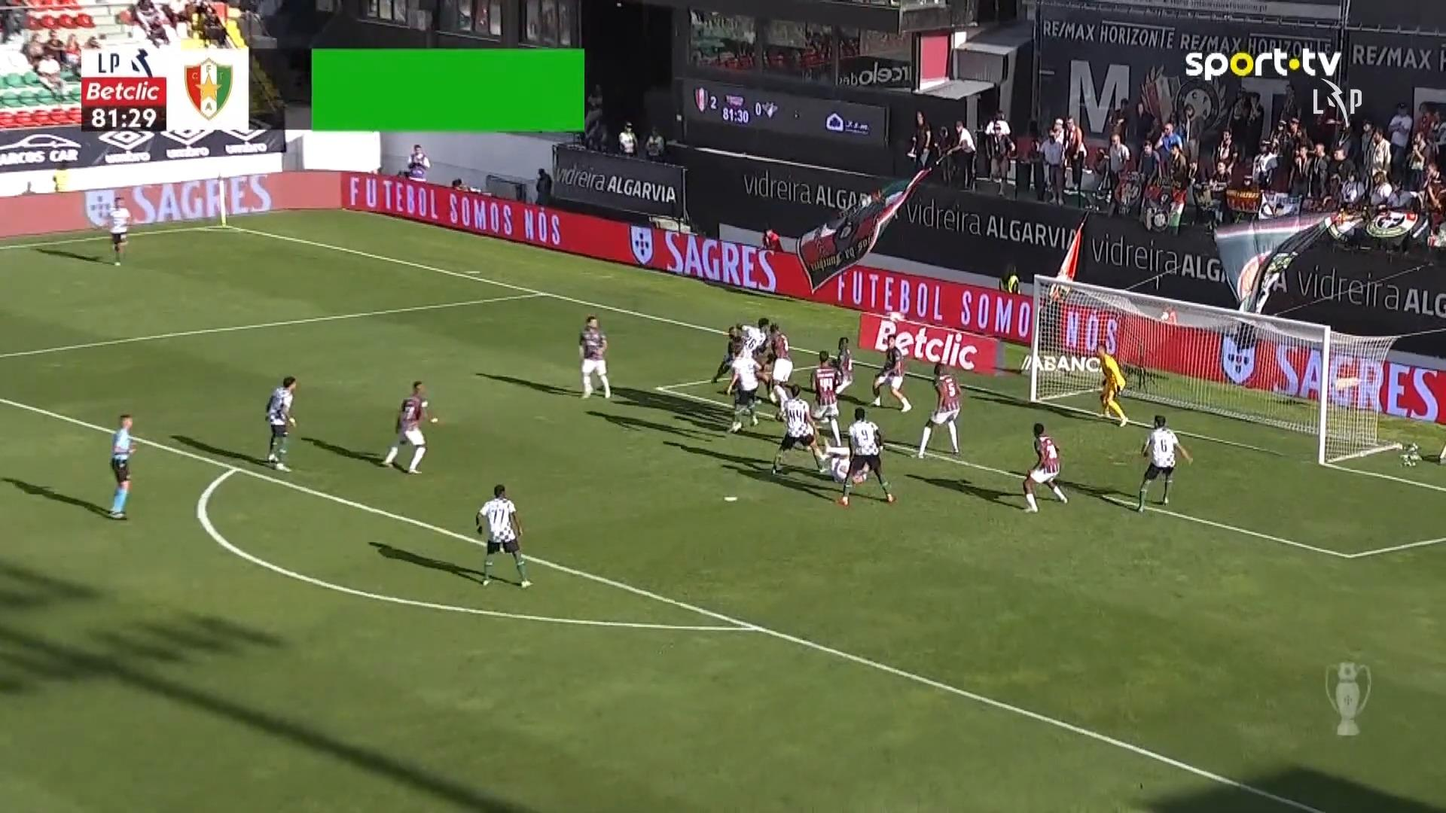goalkeeper: (1091, 343, 1129, 427)
player: (474, 483, 532, 588), (837, 406, 896, 505), (1136, 413, 1193, 512), (770, 382, 829, 476), (380, 379, 435, 474), (916, 361, 962, 459), (1021, 422, 1068, 513), (868, 326, 912, 412), (808, 349, 844, 446), (264, 376, 297, 471), (577, 315, 612, 400), (728, 346, 761, 433), (767, 321, 794, 419), (107, 196, 130, 266), (737, 316, 768, 358), (834, 336, 854, 391)
referee: (107, 413, 137, 519)
